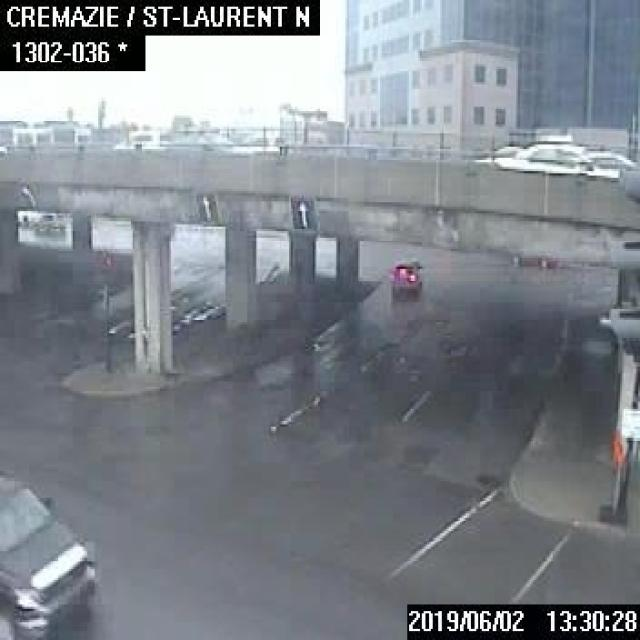construction: (604, 433, 623, 522)
vehicle: (0, 469, 102, 638), (474, 138, 620, 175), (387, 256, 422, 296), (474, 142, 526, 168), (581, 149, 638, 171)
